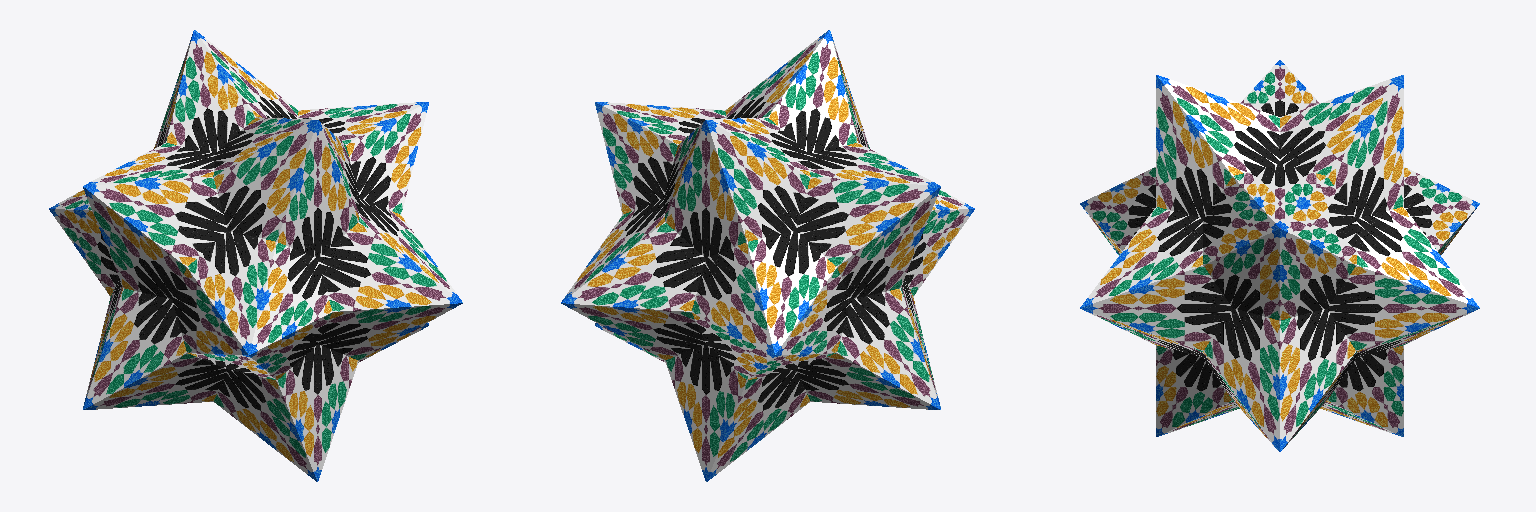
The picture shows the model from 3 angles: view 1: azimuth 30°, elevation 25°; view 2: azimuth 150°, elevation 25°; view 3: azimuth 270°, elevation 25°; orthographic projection.
Size of the model in its own units: 2.43 by 2.43 by 2.43.
Materials: 1 (1 with a texture image).